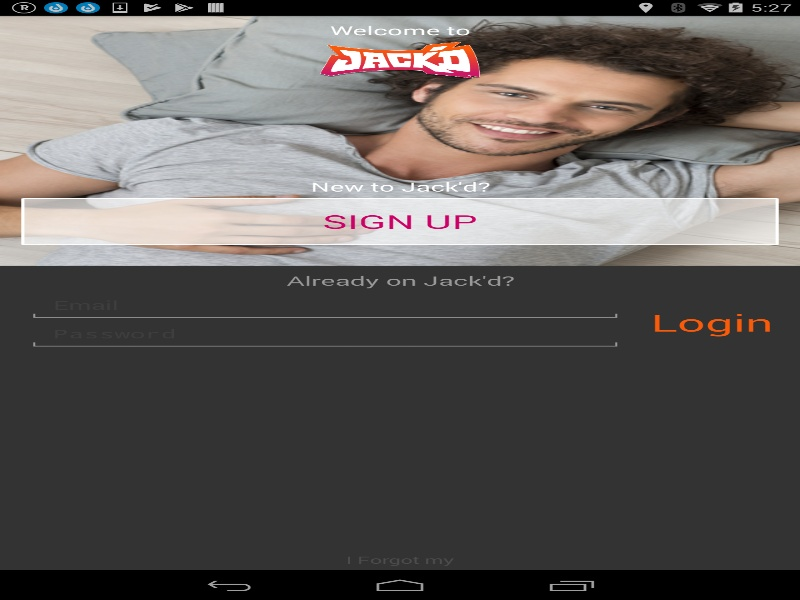Button: (21, 198, 778, 245)
Input: (26, 295, 624, 320), (26, 324, 624, 349)
